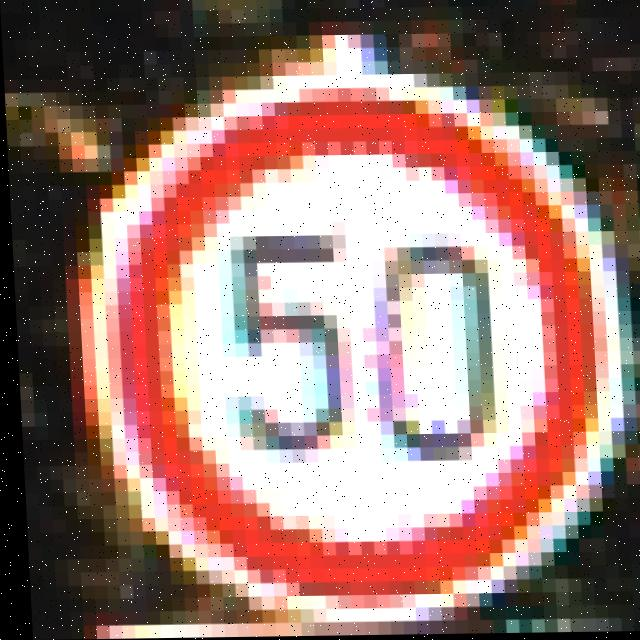speed_limit_50: (64, 60, 640, 622)
